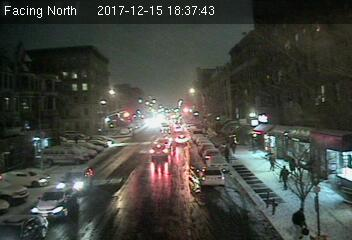car: (31, 188, 80, 220), (56, 165, 94, 195), (198, 166, 227, 188), (148, 143, 169, 160), (207, 156, 228, 170), (174, 132, 189, 145)
pedestrian: (291, 208, 312, 240), (277, 165, 293, 193)
